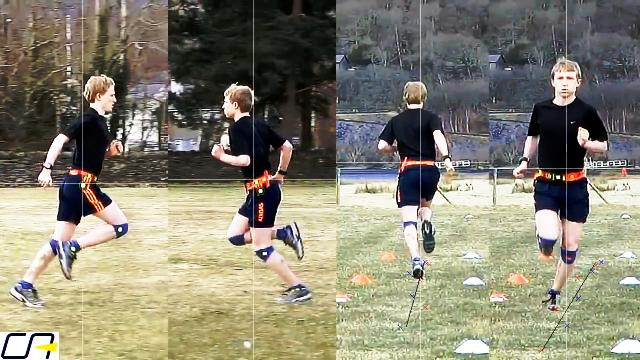berlari: (9, 62, 133, 306), (205, 80, 322, 318), (520, 52, 608, 314), (374, 76, 458, 298)
